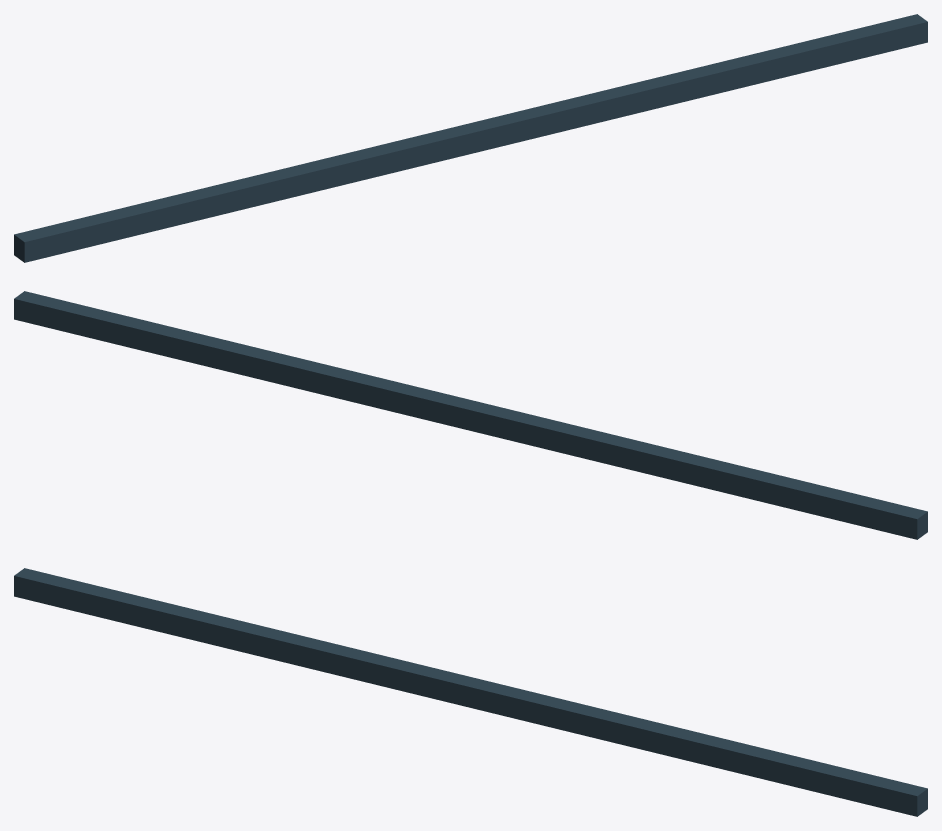
The model's file is v02-transit-world-02-03-01.glb.
3 renders of one model, top to bottom at view 1: azimuth 30°, elevation 25°; view 2: azimuth 150°, elevation 25°; view 3: azimuth 330°, elevation 25°, orthographic.
Visible parts, largest first — view 1: v02-transit-world-02-03-01; view 2: v02-transit-world-02-03-01; view 3: v02-transit-world-02-03-01.
Part boxes in pixels (x1,y1,x2,y2): v02-transit-world-02-03-01: (14, 14, 927, 262); v02-transit-world-02-03-01: (14, 291, 927, 539); v02-transit-world-02-03-01: (14, 568, 927, 816).
Bounding box in the file's own units: 63.99 × 1.4 × 1.3.
